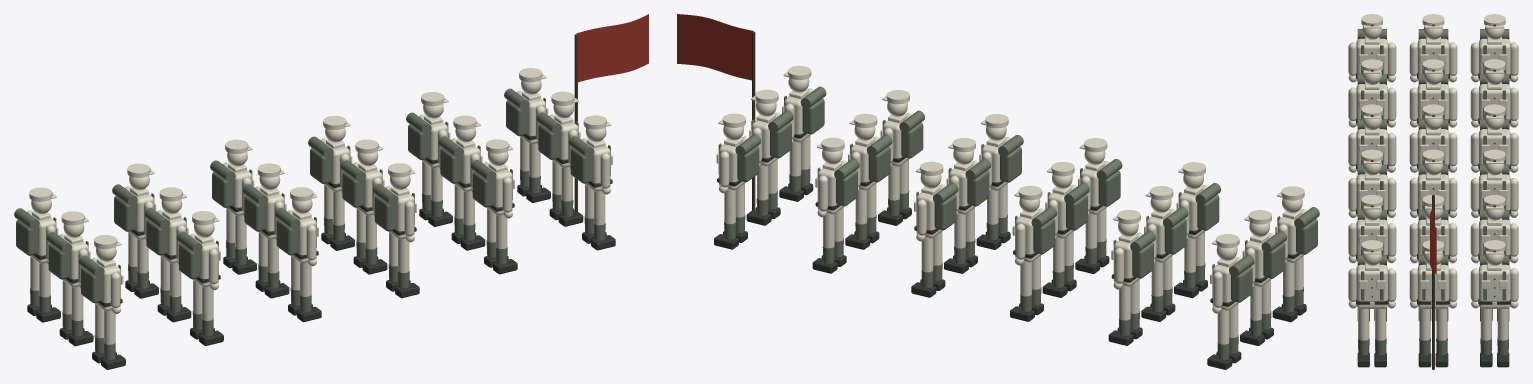
File: marching-company.glb
3 renders of one model, left to right at view 1: azimuth 30°, elevation 25°; view 2: azimuth 150°, elevation 25°; view 3: azimuth 270°, elevation 25°, orthographic. The views are drawn at different scales.
Parts seen in each view (by area): view 1: Backpack (×18), UnmarkedFlag, Tunic (×4); view 2: Backpack (×18), UnmarkedFlag, Tunic (×3); view 3: Tunic (×18), Sleeve (×36), Cap (×18), Head (×16), TrouserLeg (×6), Puttee (×6), Boot (×6), UnmarkedFlag, FlagPole, Bedroll.
Part boxes in pixels (bbox=[...]): Backpack (×18): bbox=[16, 100, 592, 302]; UnmarkedFlag: bbox=[576, 14, 648, 82]; Tunic (×4): bbox=[93, 140, 610, 311]; Backpack (×18): bbox=[737, 98, 1317, 302]; UnmarkedFlag: bbox=[677, 14, 753, 80]; Tunic (×3): bbox=[817, 162, 1141, 286]; Tunic (×18): bbox=[1356, 38, 1510, 308]; Sleeve (×36): bbox=[1348, 42, 1518, 301]; Cap (×18): bbox=[1361, 14, 1505, 252]; Head (×16): bbox=[1362, 26, 1504, 265]; TrouserLeg (×6): bbox=[1358, 308, 1508, 340]; Puttee (×6): bbox=[1358, 338, 1508, 355]; Boot (×6): bbox=[1357, 353, 1509, 367]; UnmarkedFlag: bbox=[1430, 194, 1436, 274]; FlagPole: bbox=[1432, 195, 1434, 369]; Bedroll: bbox=[1418, 164, 1448, 175].
Size of the model in its own units: 8.83 by 2.62 by 2.31.
